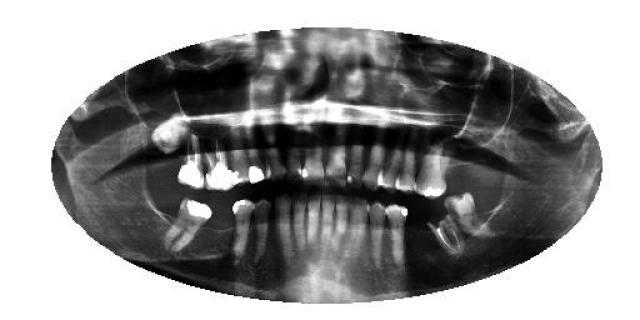Cavity: (429, 206, 465, 258)
Fillings: (168, 198, 214, 256), (415, 141, 447, 200), (175, 132, 206, 188), (385, 202, 409, 266), (231, 199, 254, 265), (246, 131, 266, 184), (232, 127, 248, 185)
Implant: (204, 131, 234, 191)
